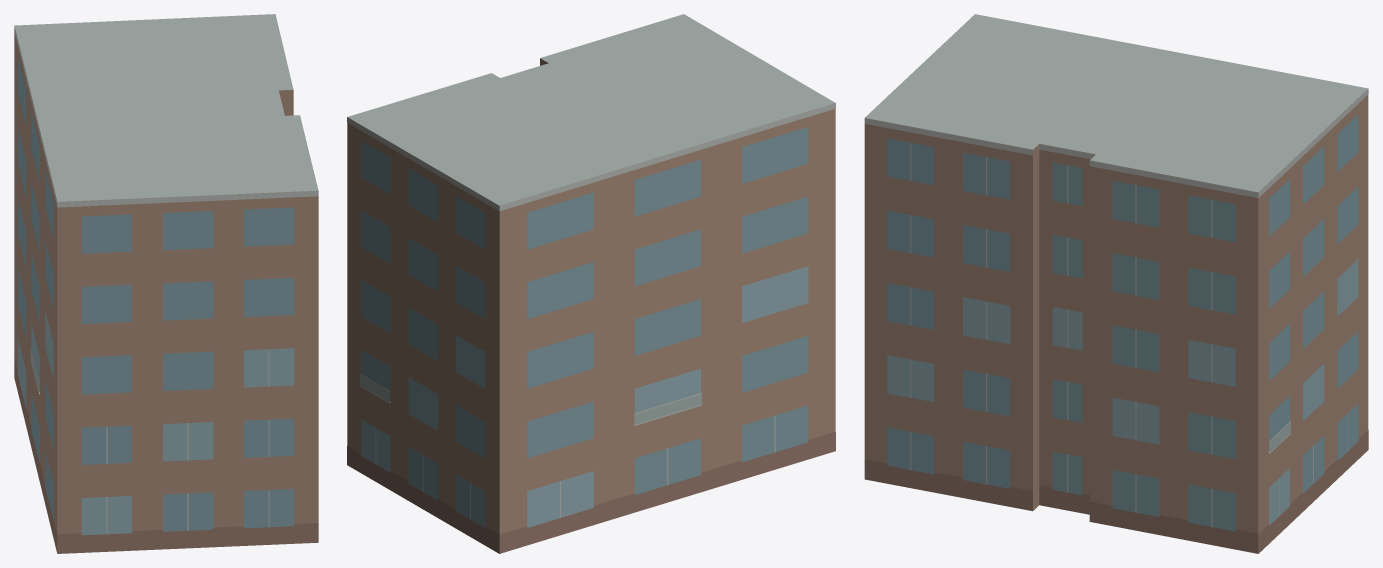
Rendered from survey-upis-32530869.glb.
3 views of the same model, side by side, from view 1: azimuth 30°, elevation 25°; view 2: azimuth 150°, elevation 25°; view 3: azimuth 270°, elevation 25° (orthographic). The views are drawn at different scales.
Visible parts, largest first — view 1: survey-upis-32530869.tmp; view 2: survey-upis-32530869.tmp; view 3: survey-upis-32530869.tmp.
Boxes of the visible parts, left/top/right/bottom form: survey-upis-32530869.tmp: left=14, top=14, right=318, bottom=553; survey-upis-32530869.tmp: left=347, top=14, right=835, bottom=553; survey-upis-32530869.tmp: left=864, top=14, right=1368, bottom=553.
Bounding box in the file's own units: 16.16 × 15.25 × 19.28.
